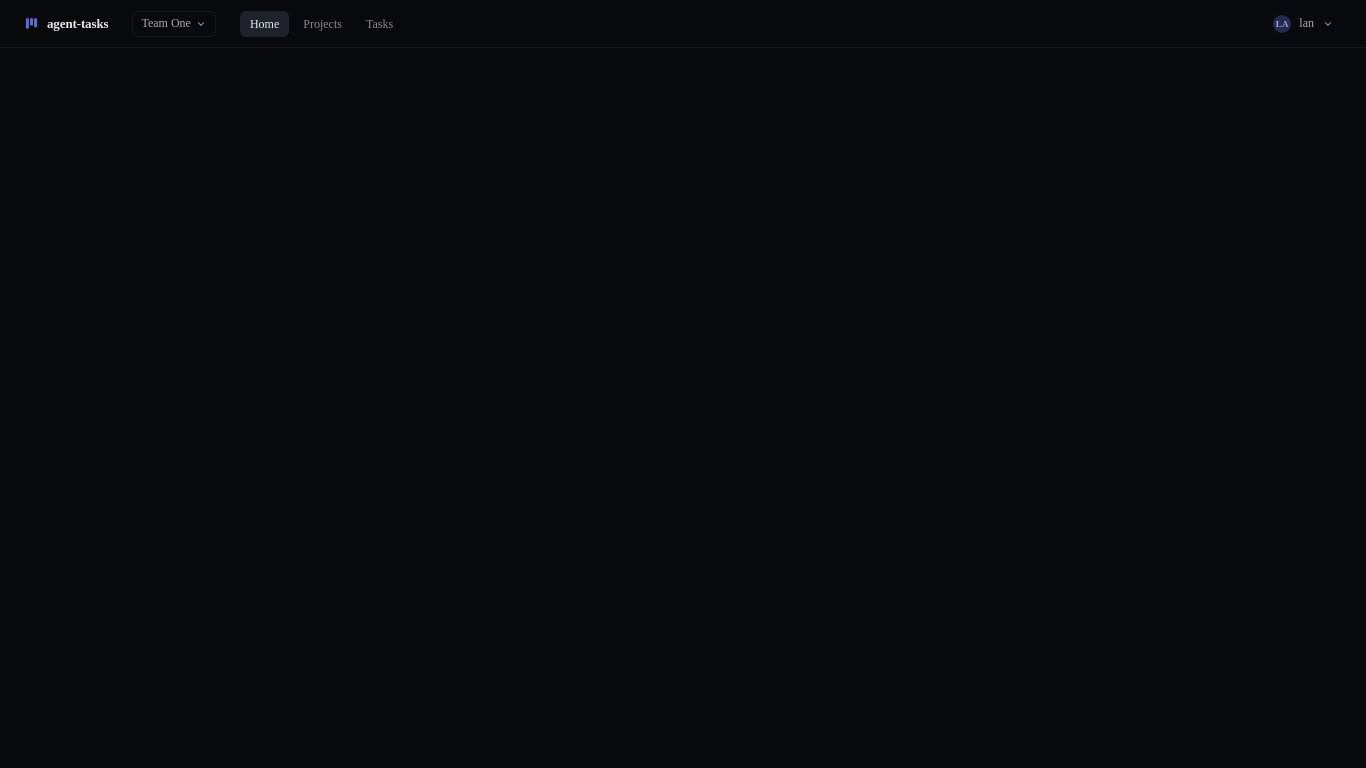
Test: New team dialog › Cancel closes it and returns focus to the team switcher button
Click the button with aria-label "Switch team, current team": {"x": 174, "y": 24} [132, 10, 216, 36]
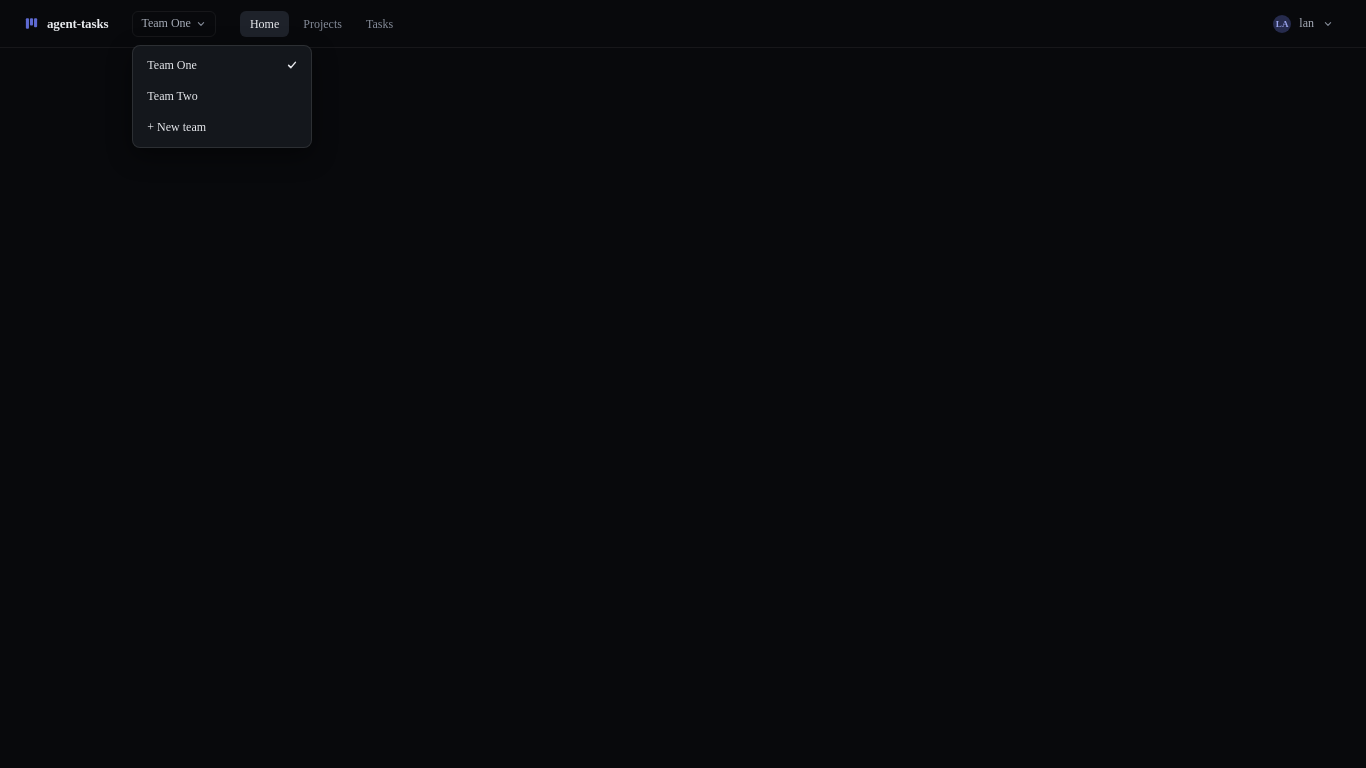
Click the menu item "+ New team": {"x": 222, "y": 127} [137, 112, 307, 142]
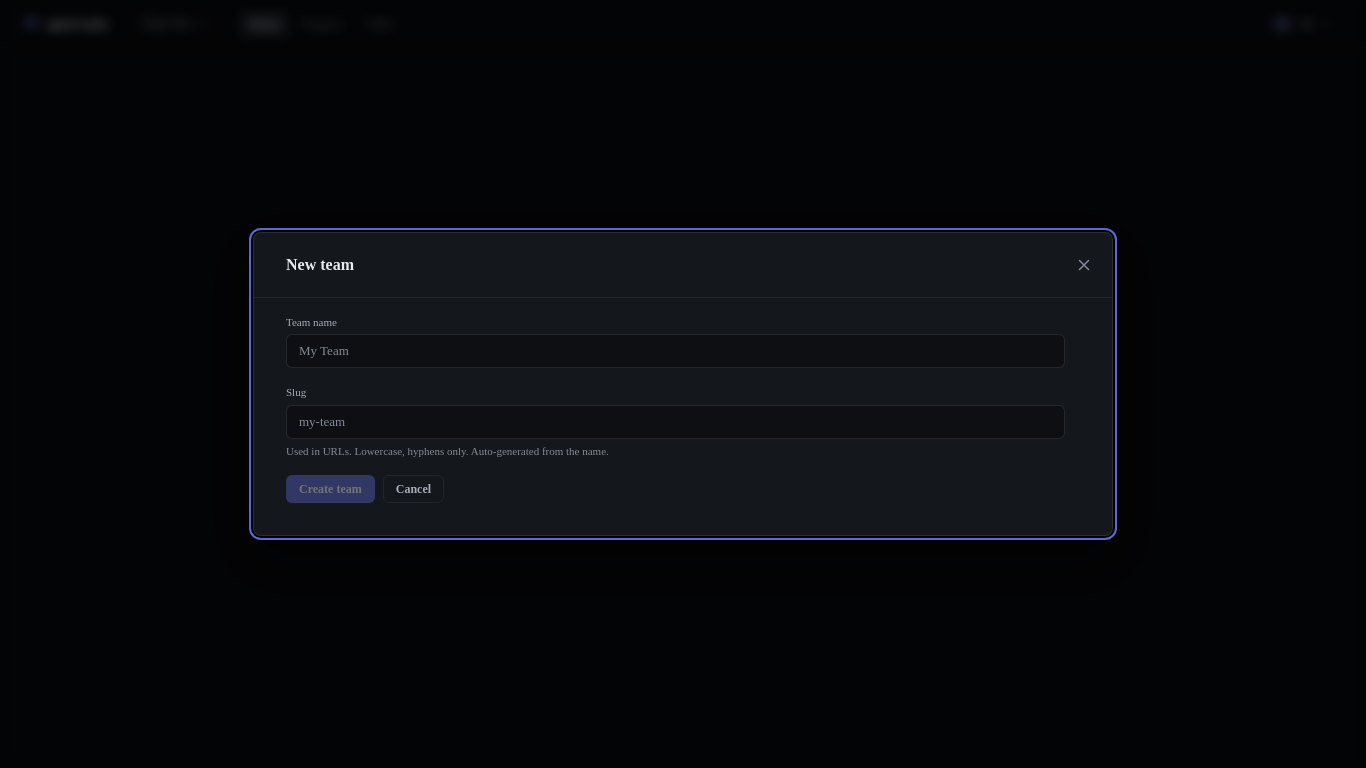
Click the button "Cancel": {"x": 413, "y": 489} [383, 475, 444, 503]
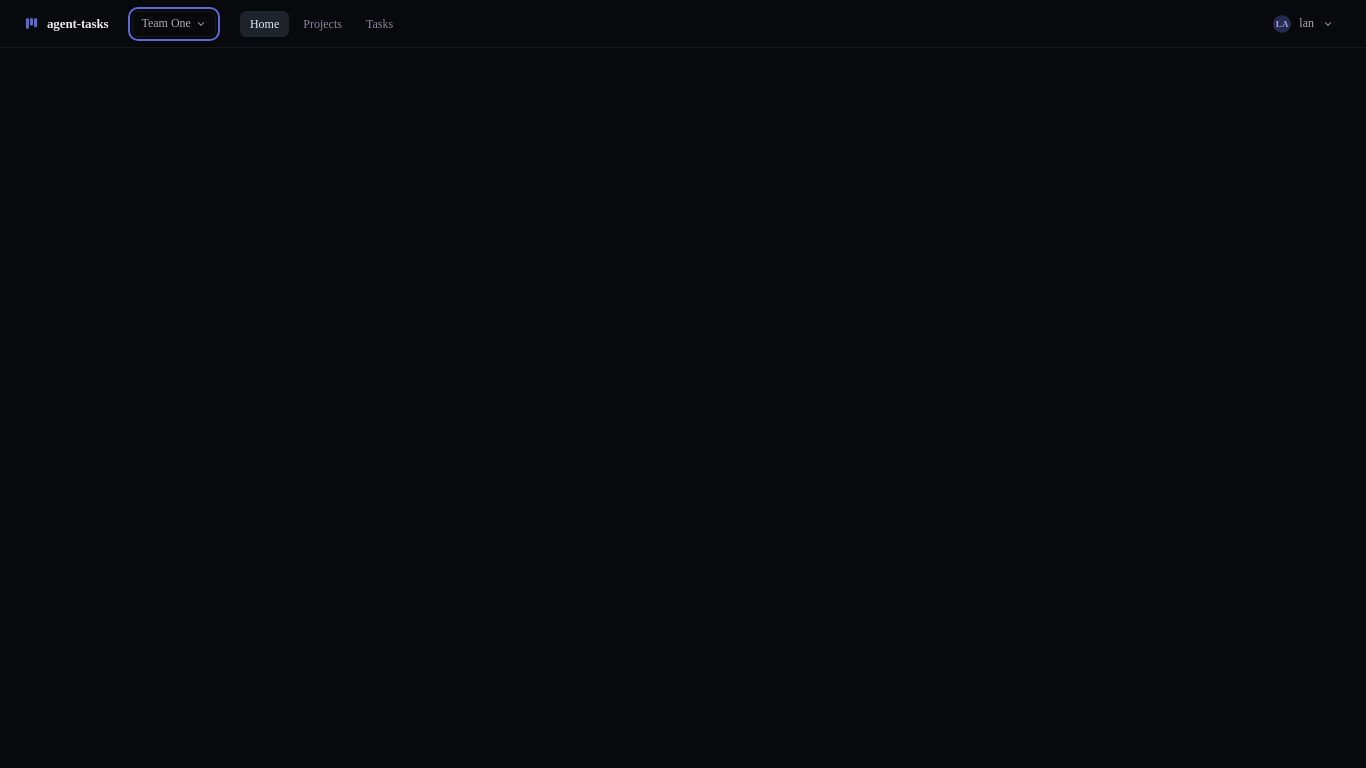
Now the dialog is gone
